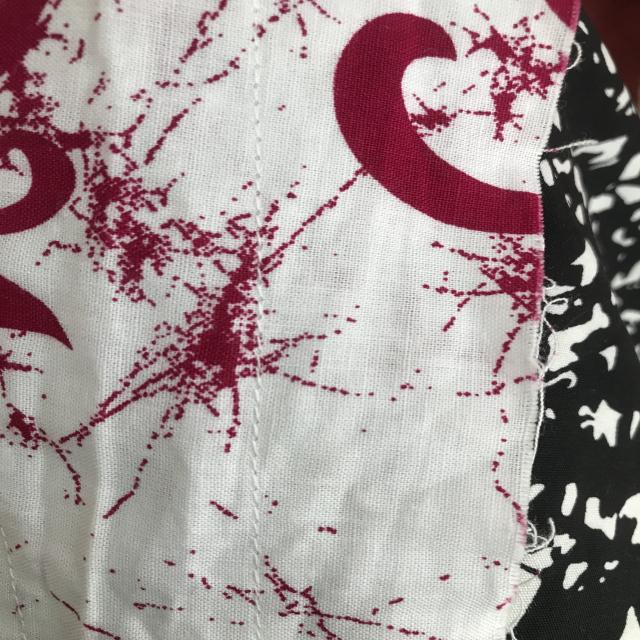good: (232, 391, 278, 575)
